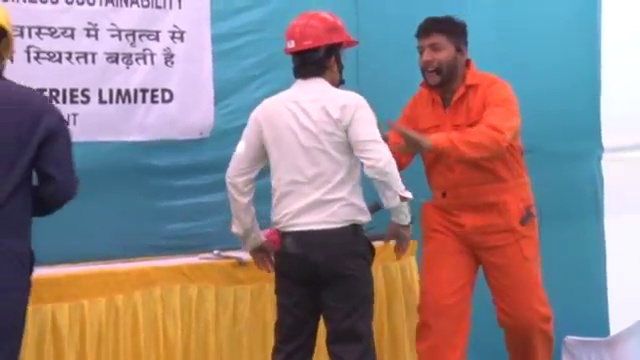helmet: (281, 7, 359, 55), (1, 6, 16, 63)
helmet_off: (413, 16, 470, 86)
helmet_on: (280, 9, 362, 92), (1, 5, 18, 83)
person: (225, 6, 414, 360), (382, 17, 552, 360), (1, 6, 79, 351)
